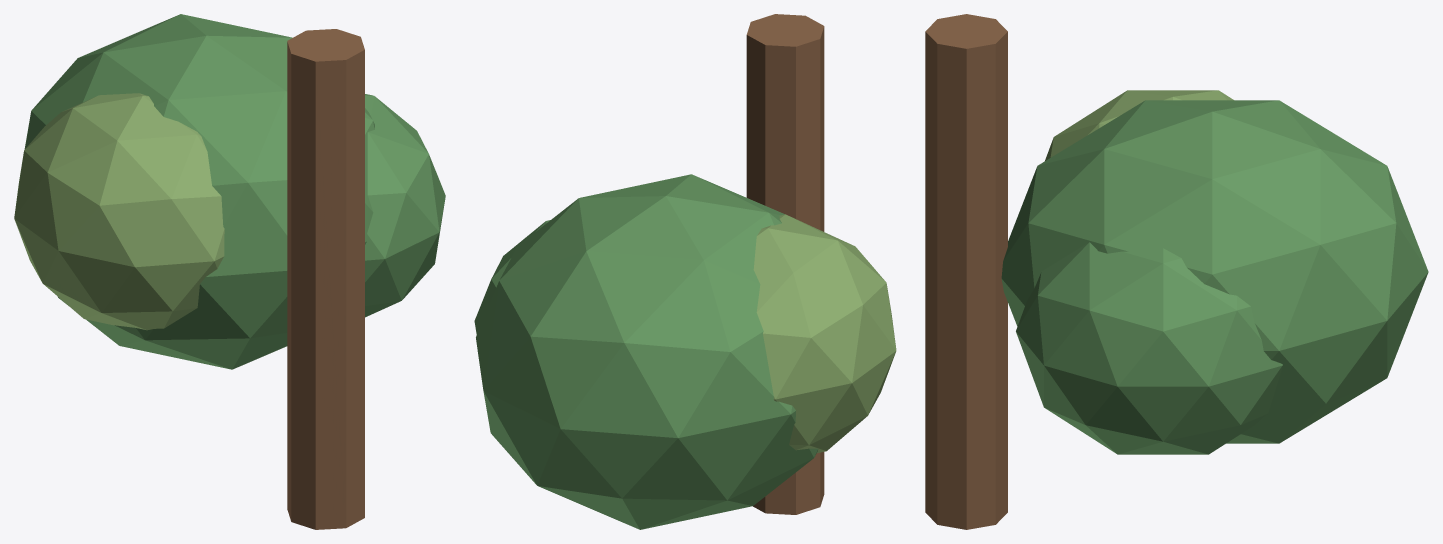
The model's file is atlas_oak_tree.glb.
3 renders of one model, left to right at view 1: azimuth 30°, elevation 25°; view 2: azimuth 150°, elevation 25°; view 3: azimuth 270°, elevation 25°, orthographic. The views are drawn at different scales.
Visible parts, largest first — view 1: Oak_Canopy, Oak_Trunk, Oak_Canopy.001, Oak_Canopy.002; view 2: Oak_Canopy, Oak_Canopy.001, Oak_Trunk, Oak_Canopy.002; view 3: Oak_Canopy, Oak_Trunk, Oak_Canopy.002, Oak_Canopy.001.
Part boxes in pixels (x1,y1,x2,y2): Oak_Canopy: (24, 14, 374, 369); Oak_Trunk: (287, 29, 364, 529); Oak_Canopy.001: (14, 93, 224, 330); Oak_Canopy.002: (365, 94, 445, 317); Oak_Canopy: (476, 174, 818, 529); Oak_Canopy.001: (753, 214, 896, 453); Oak_Trunk: (746, 14, 824, 514); Oak_Canopy.002: (474, 220, 550, 334); Oak_Canopy: (1001, 100, 1428, 443); Oak_Trunk: (925, 14, 1007, 529); Oak_Canopy.002: (1016, 242, 1282, 454); Oak_Canopy.001: (1045, 90, 1233, 160).
Size of the model in its own units: 4.62 by 5.4 by 5.12.
